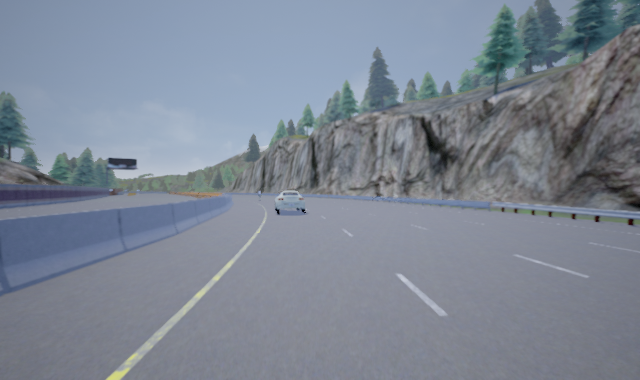vehicle: (273, 190, 307, 214)
